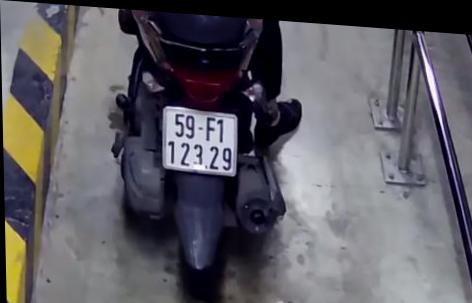License_Plate: (157, 101, 243, 182)
